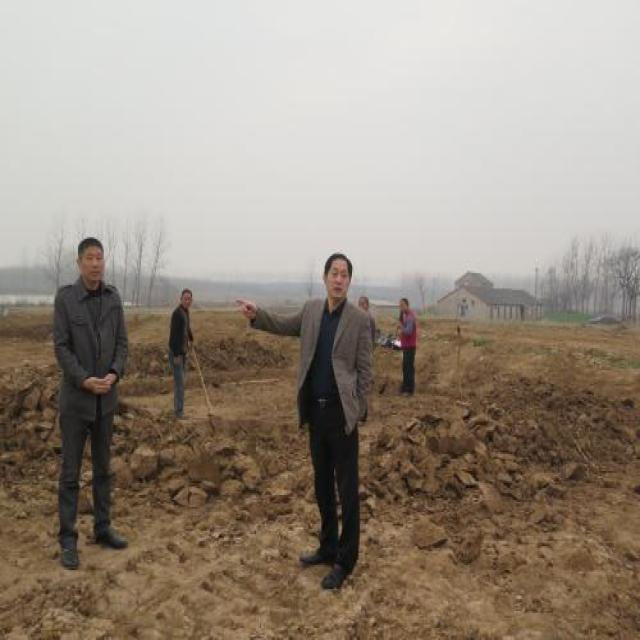no-helmet: (320, 247, 355, 309), (72, 230, 108, 288), (177, 283, 196, 314)
